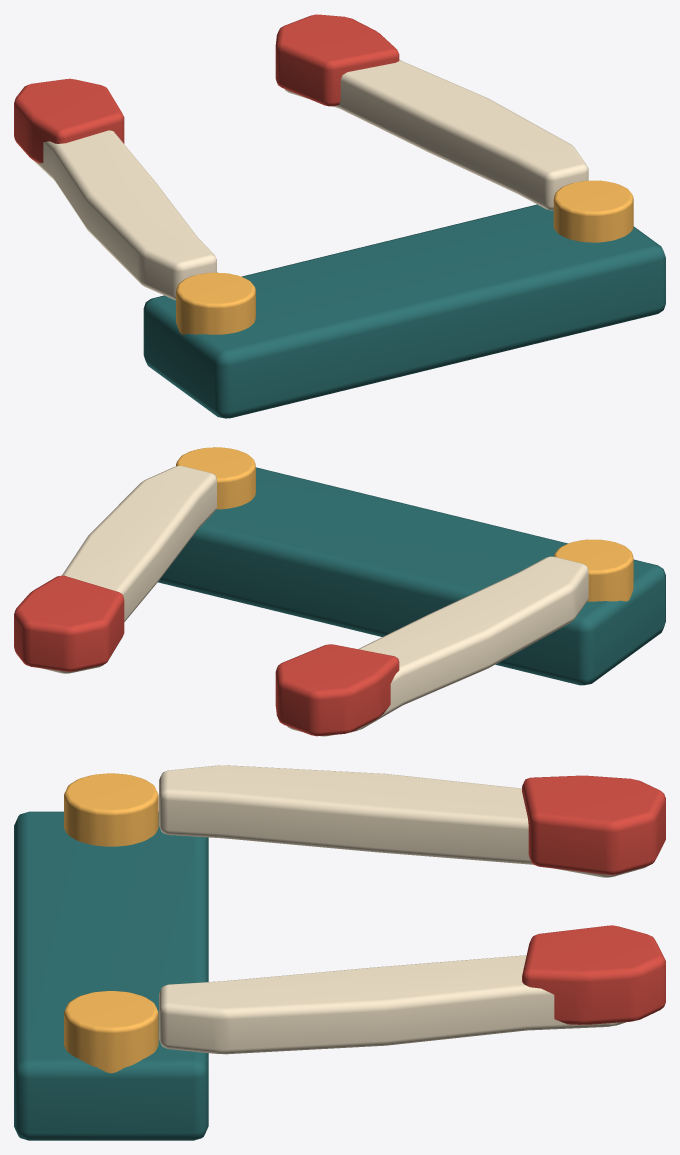
File: A12_Tongs.fbx
3 renders of one model, top to bottom at view 1: azimuth 30°, elevation 25°; view 2: azimuth 150°, elevation 25°; view 3: azimuth 270°, elevation 25°, orthographic. The views are drawn at different scales.
Visible parts, largest first — view 1: Petrol hinge stand, Vanilla clamp arm.001, Vanilla clamp arm, Tomato silicone tip.001, Tomato silicone tip, Honey hinge cap, Honey hinge cap.001; view 2: Petrol hinge stand, Vanilla clamp arm, Vanilla clamp arm.001, Tomato silicone tip, Tomato silicone tip.001, Honey hinge cap, Honey hinge cap.001; view 3: Petrol hinge stand, Vanilla clamp arm.001, Vanilla clamp arm, Tomato silicone tip, Tomato silicone tip.001, Honey hinge cap.001, Honey hinge cap.
Boxes of the visible parts, <box> form: Petrol hinge stand: <box>143,204,665,418</box>; Vanilla clamp arm.001: <box>284,59,588,210</box>; Vanilla clamp arm: <box>33,130,216,300</box>; Tomato silicone tip.001: <box>275,14,399,106</box>; Tomato silicone tip: <box>14,78,124,163</box>; Honey hinge cap: <box>176,272,255,334</box>; Honey hinge cap.001: <box>553,180,633,242</box>; Petrol hinge stand: <box>158,467,665,685</box>; Vanilla clamp arm: <box>287,556,588,736</box>; Vanilla clamp arm.001: <box>42,466,216,673</box>; Tomato silicone tip: <box>275,644,399,736</box>; Tomato silicone tip.001: <box>14,575,124,671</box>; Honey hinge cap: <box>554,539,633,601</box>; Honey hinge cap.001: <box>176,447,255,509</box>; Petrol hinge stand: <box>14,811,208,1140</box>; Vanilla clamp arm.001: <box>159,955,626,1054</box>; Vanilla clamp arm: <box>159,765,647,877</box>; Tomato silicone tip: <box>522,775,665,875</box>; Tomato silicone tip.001: <box>522,925,665,1024</box>; Honey hinge cap.001: <box>64,991,158,1073</box>; Honey hinge cap: <box>64,773,158,846</box>.
Size of what is drawn, in the model's own units: 0.205 by 0.053 by 0.2179.
